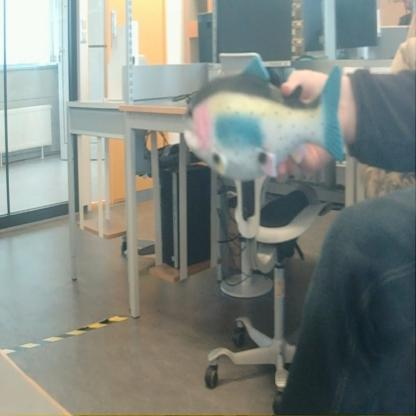rubberfish: (179, 54, 349, 182)
